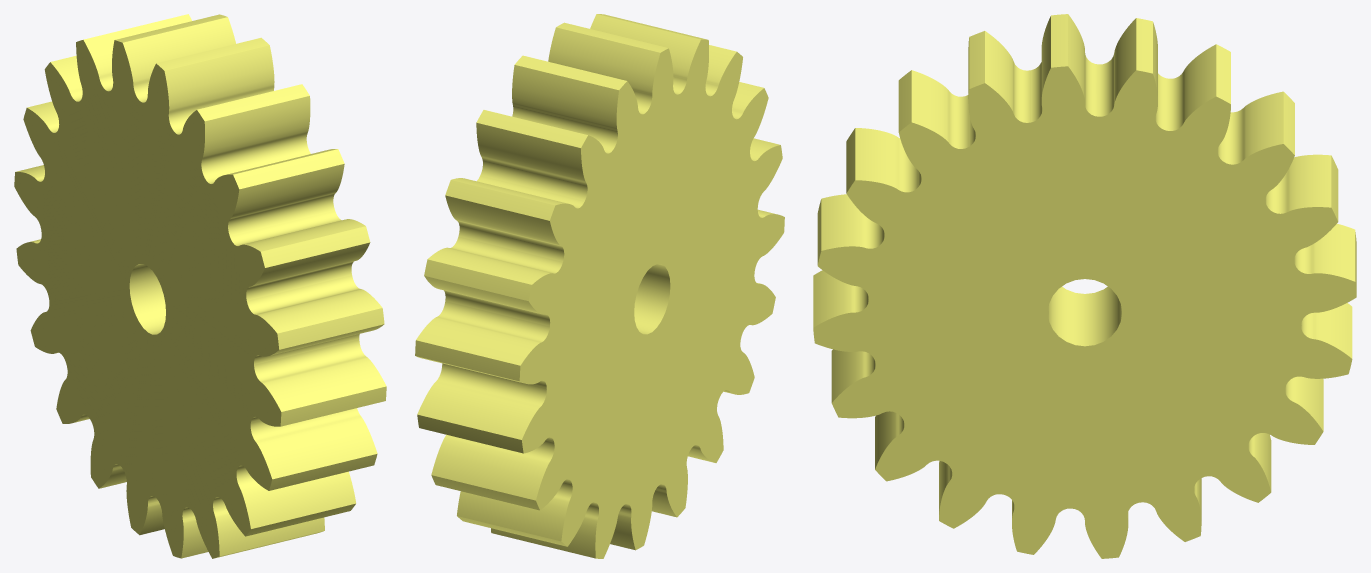
Rendered from 10301_para_engranajes_1.gltf.
3 renders of one model, left to right at view 1: azimuth 30°, elevation 25°; view 2: azimuth 150°, elevation 25°; view 3: azimuth 270°, elevation 25°, orthographic. The views are drawn at different scales.
Visible parts, largest first — view 1: 2025_11_22_05_41_47_0208; view 2: 2025_11_22_05_41_47_0208; view 3: 2025_11_22_05_41_47_0208.
Boxes of the visible parts, x1=… form: 2025_11_22_05_41_47_0208: x1=14, y1=14, x2=386, y2=558; 2025_11_22_05_41_47_0208: x1=415, y1=14, x2=784, y2=558; 2025_11_22_05_41_47_0208: x1=813, y1=14, x2=1356, y2=558.
Size of the model in its own units: 10 by 43.92 by 43.92.
